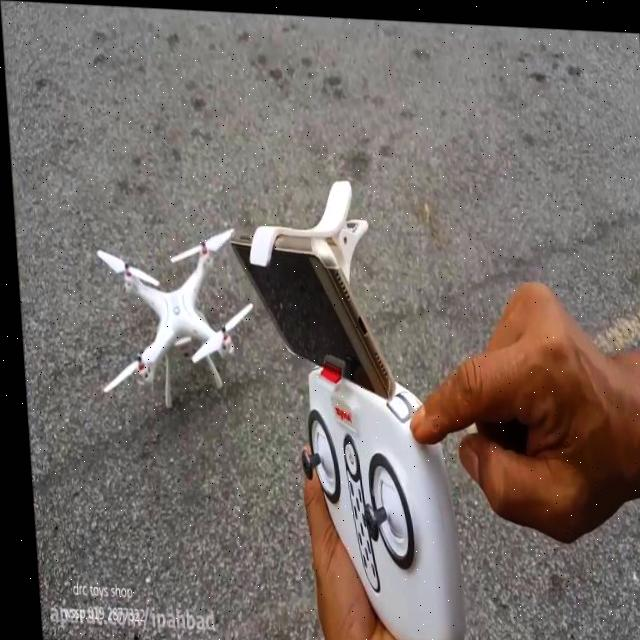drone: (85, 212, 255, 415)
